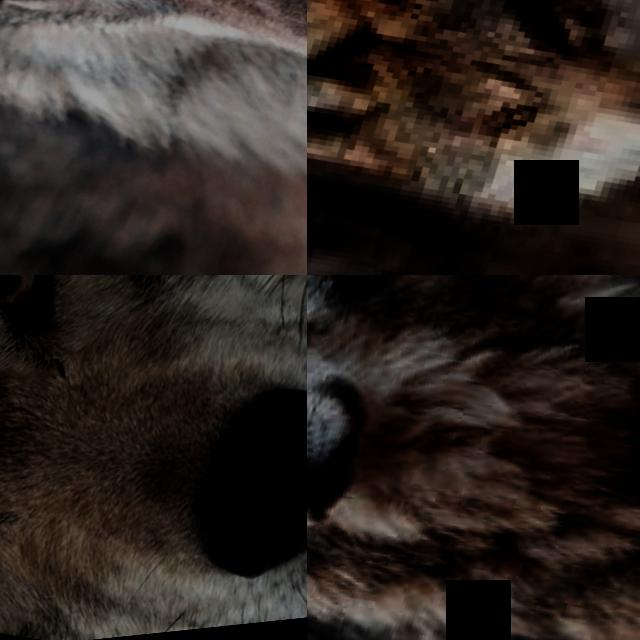wolf: (307, 275, 640, 640), (0, 275, 307, 640), (307, 0, 640, 275), (0, 0, 307, 275), (307, 96, 640, 275)
